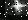person: (6, 1, 28, 16)
